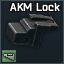AKM%5AK-74 Zenit PT Lock: (0, 0, 64, 64)
